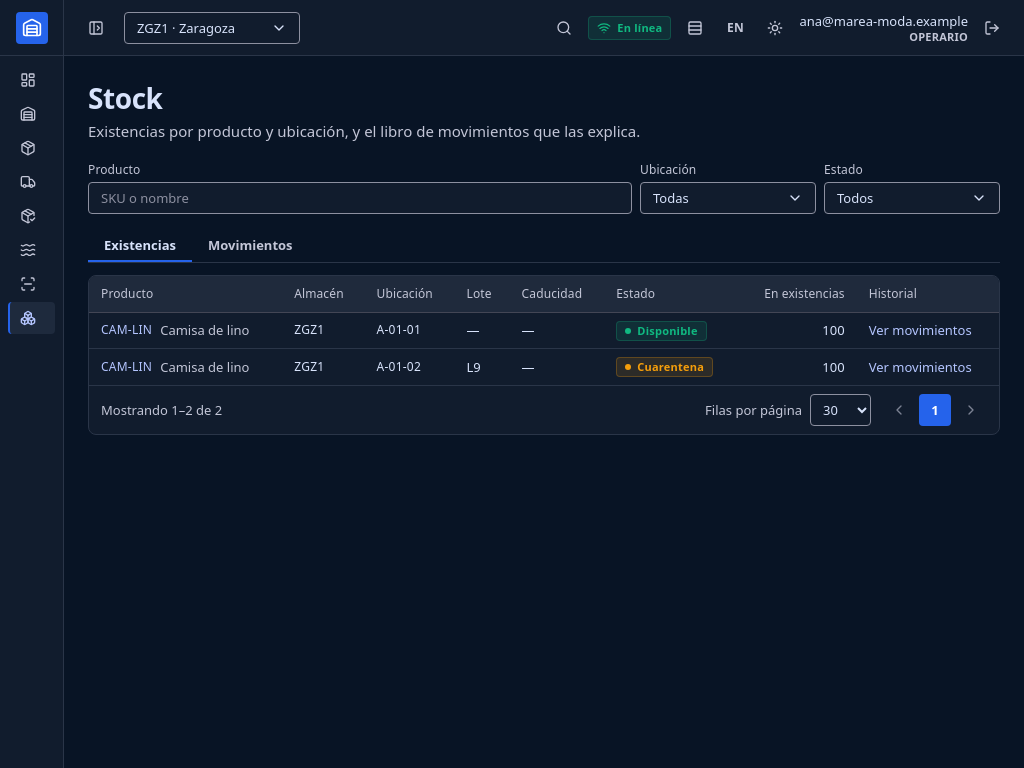
Test case: the stock › filters by location and by status
Expected: the text "A-01-01" is shown, [364,312,454,348]
Click the dropdown named "Ubicación" at (728, 198), box [640,182,816,214]
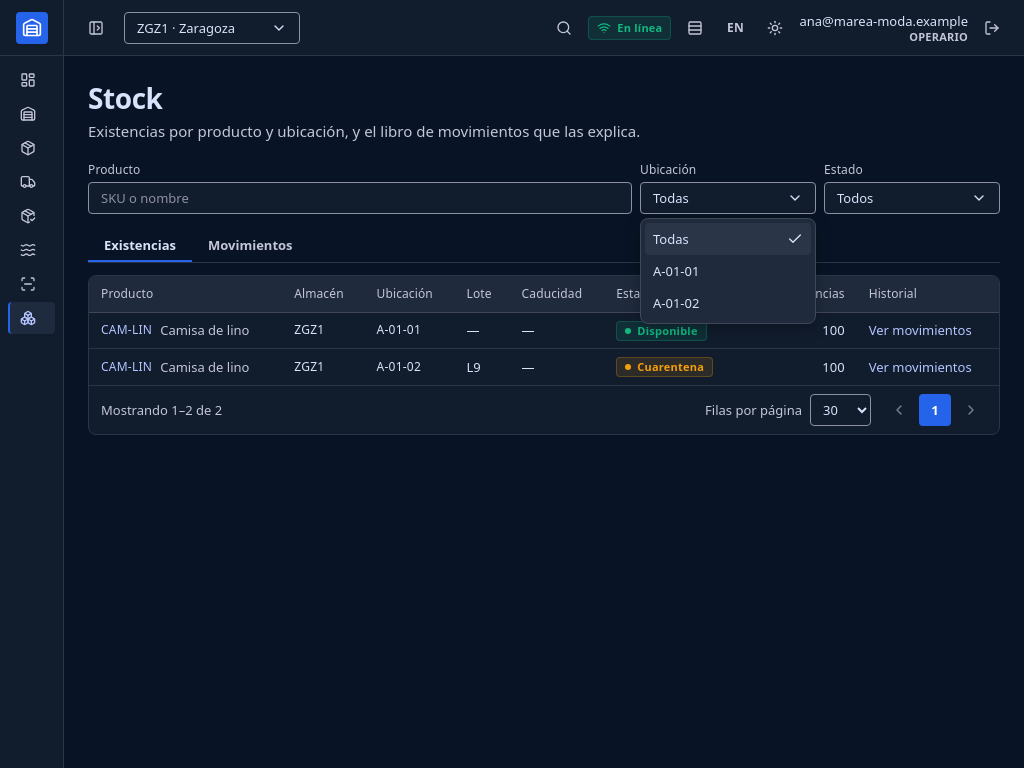
Click the option "A-01-02" at (676, 303), box [653,294,699,312]
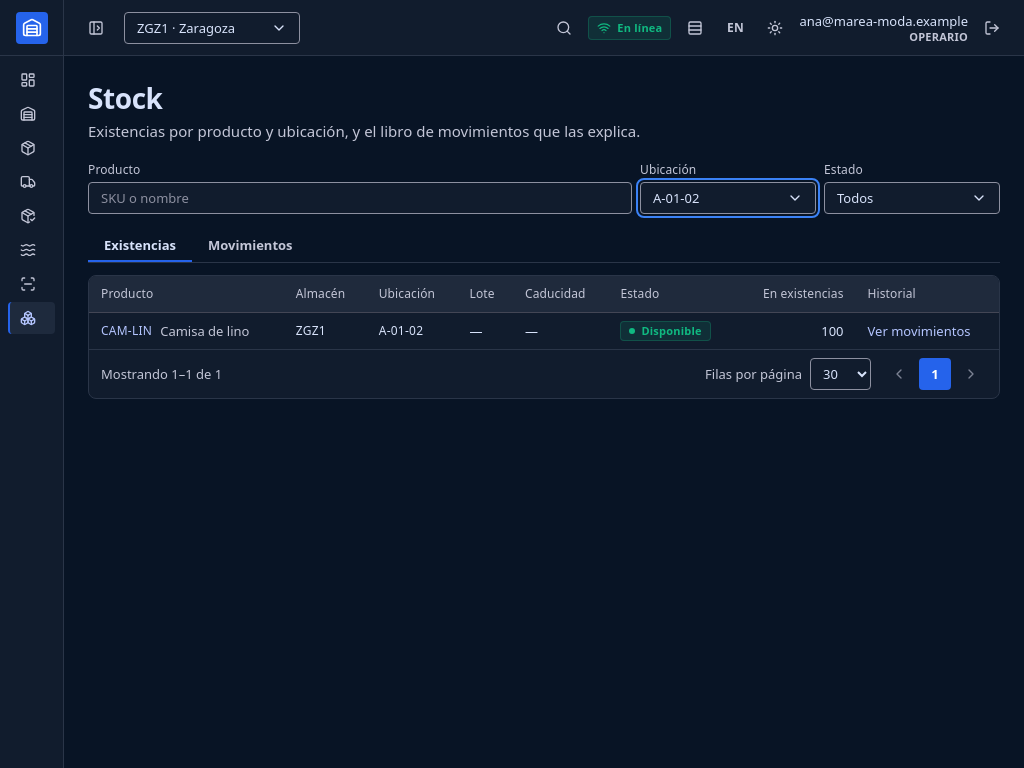
Expected: the element "existencias" is shown, [89,276,999,348]
Click the dropdown named "Estado" at (912, 198), box [824,182,1000,214]
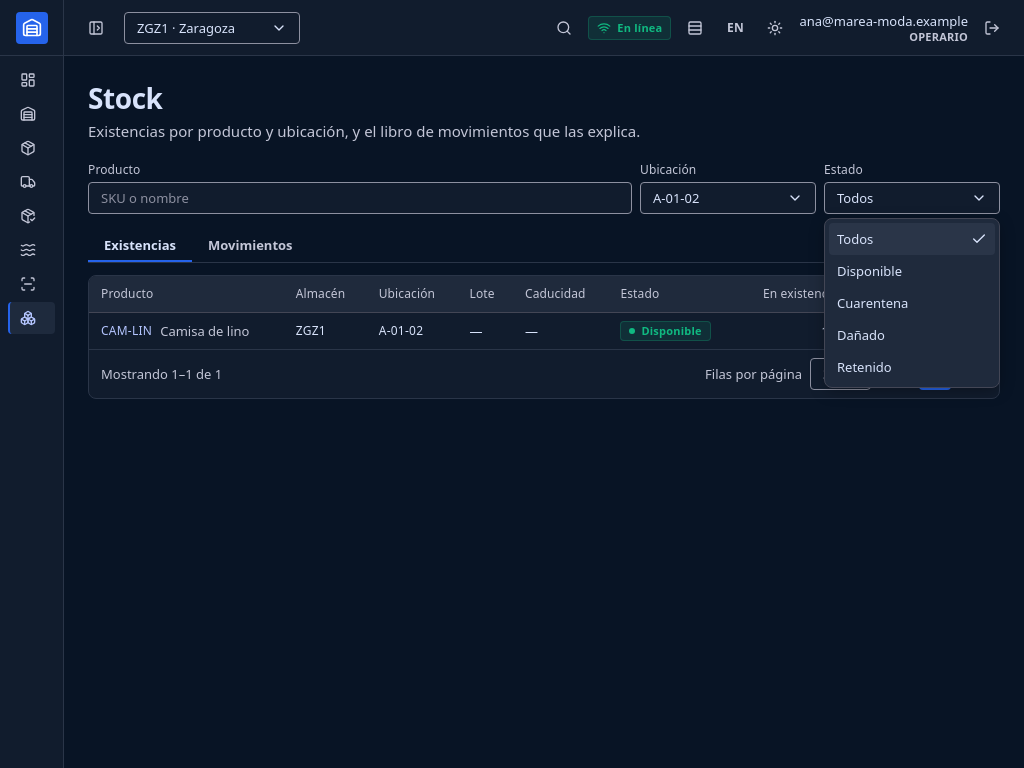
Click the option "Dañado" at (861, 335), box [837,326,885,344]
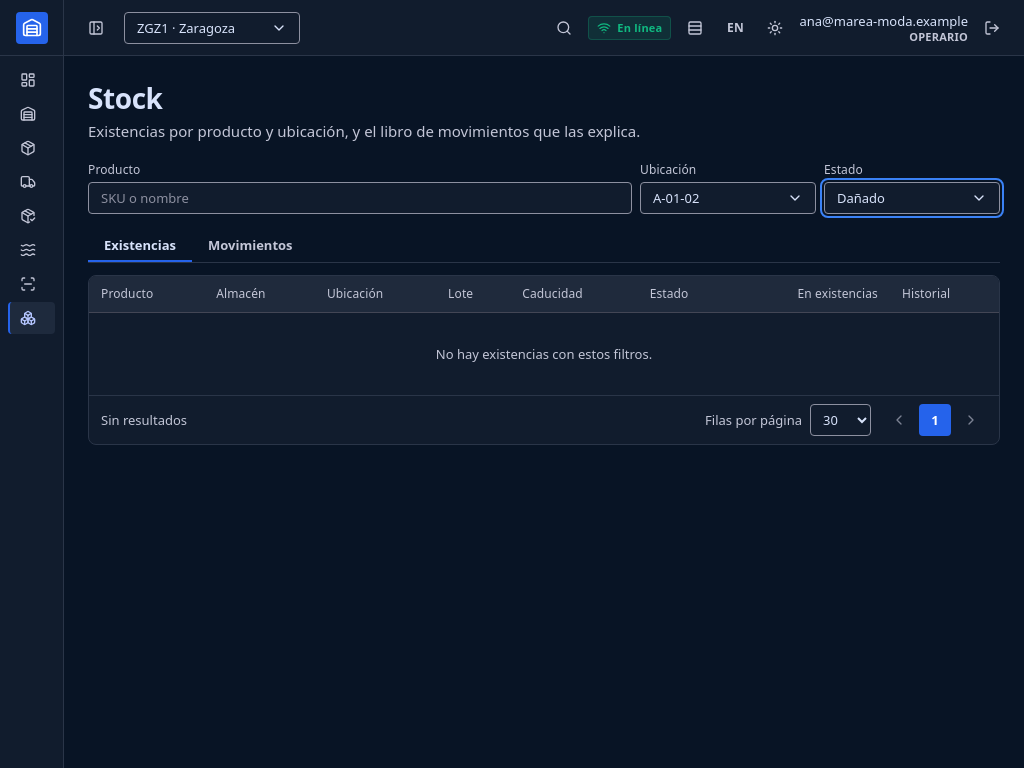
Result: the text "No hay existencias con estos filtros." is shown at [89,312,999,394]
